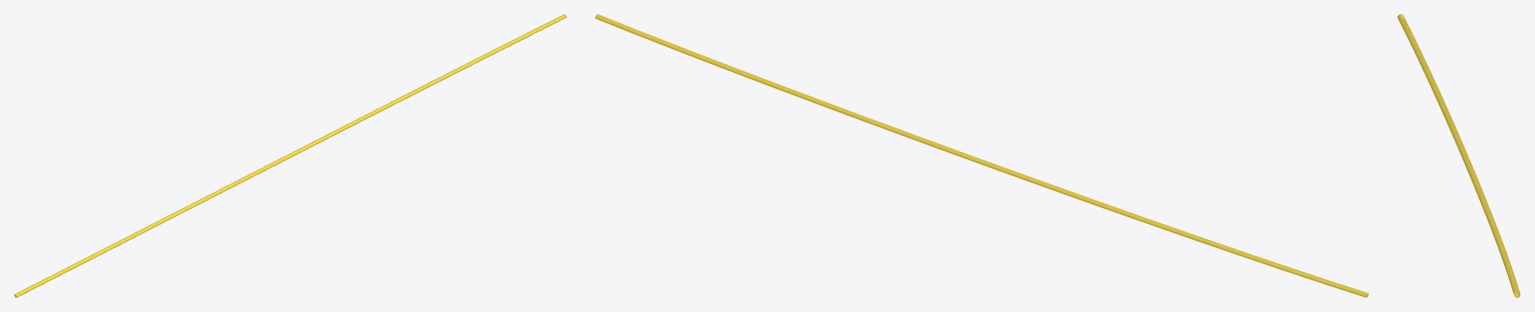
File: Event_84804159_track_33.fbx
3 views of the same model, side by side, from view 1: azimuth 30°, elevation 25°; view 2: azimuth 150°, elevation 25°; view 3: azimuth 270°, elevation 25° (orthographic). The views are drawn at different scales.
Parts seen in each view (by area): view 1: Model; view 2: Model; view 3: Model.
Part boxes in pixels (x1,y1,x2,y2): Model: [14, 14, 566, 297]; Model: [595, 14, 1368, 297]; Model: [1397, 14, 1520, 297].
Bounding box in the file's own units: 6.46 × 1.19 × 0.7448.
